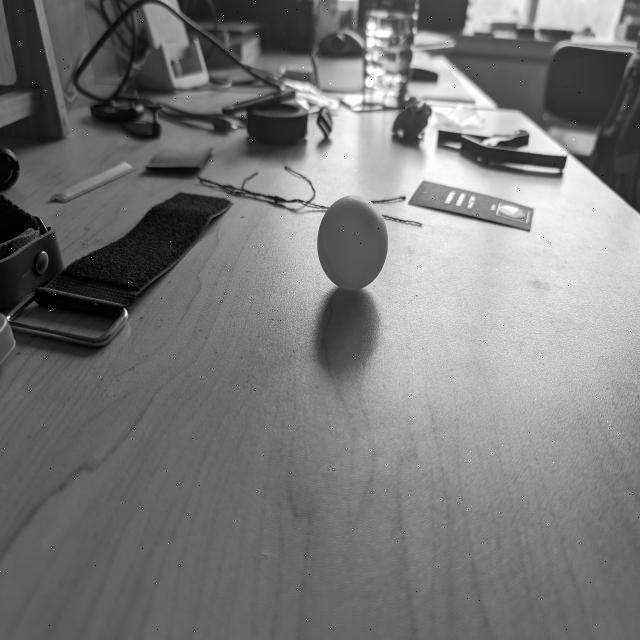ping-pong-ball: (317, 194, 389, 291)
